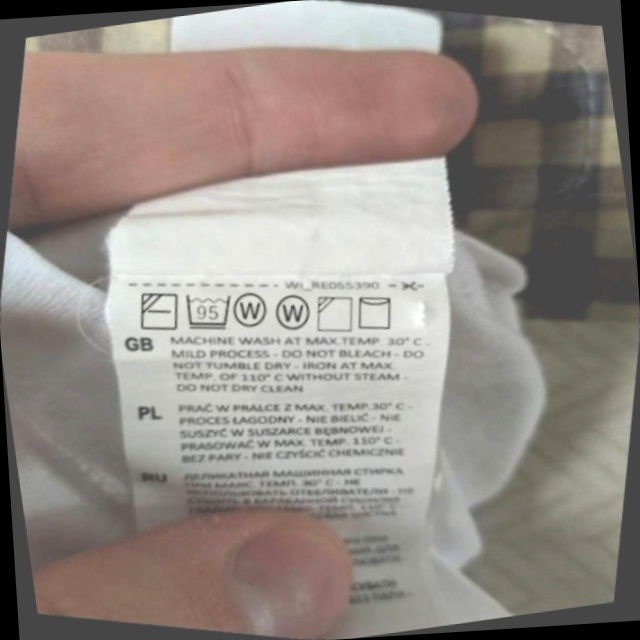95C: (174, 280, 242, 342)
dry_flat_in_shade: (129, 280, 189, 342)
line_dry: (347, 283, 405, 341)
shade_dry: (306, 285, 364, 343)
wet_clean: (265, 284, 321, 342), (224, 280, 279, 338)
